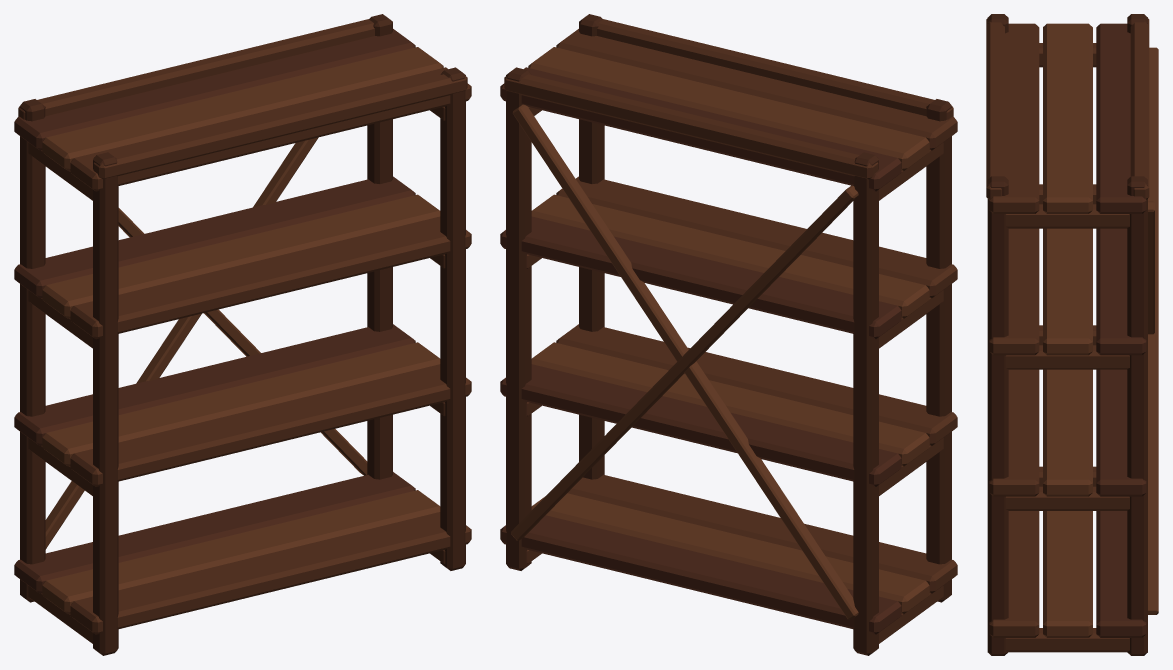
The model's file is CellarShelf.glb.
3 views of the same model, side by side, from view 1: azimuth 30°, elevation 25°; view 2: azimuth 150°, elevation 25°; view 3: azimuth 270°, elevation 25° (orthographic). The views are drawn at different scales.
Visible parts, largest first — view 1: ShelfPlank, ShelfPlank.006, ShelfPlank.003, Upright, Upright.002, ShelfPlank.010, ShelfPlank.001, ShelfPlank.004, ShelfPlank.007, ShelfPlank.002, ShelfPlank.008, ShelfPlank.005 (+12 smaller); view 2: ShelfPlank.002, ShelfPlank.008, ShelfPlank.005, Upright.001, Upright.003, ShelfPlank.010, BackBrace, Upright, ShelfPlank.004, ShelfPlank.006, ShelfPlank.001, ShelfPlank.007 (+12 smaller); view 3: ShelfPlank.010, Upright.002, Upright.003, ShelfPlank.009, ShelfPlank.011, ShelfPlank.004, ShelfPlank.007, ShelfPlank.001, BackBrace.001, ShelfPlank.005, ShelfPlank.003, ShelfPlank.006 (+10 smaller).
Boxes of the visible parts, box(x1,y1,x2,y2) form: ShelfPlank: box(70, 512, 471, 634); ShelfPlank.006: box(70, 216, 471, 339); ShelfPlank.003: box(70, 364, 471, 486); Upright: box(93, 152, 118, 655); Upright.002: box(440, 67, 465, 570); ShelfPlank.010: box(42, 47, 443, 170); ShelfPlank.001: box(42, 490, 440, 614); ShelfPlank.004: box(42, 342, 440, 466); ShelfPlank.007: box(42, 194, 440, 318); ShelfPlank.002: box(14, 472, 415, 593); ShelfPlank.008: box(14, 176, 415, 298); ShelfPlank.005: box(14, 324, 415, 445); ShelfPlank.002: box(500, 515, 901, 634); ShelfPlank.008: box(500, 216, 901, 339); ShelfPlank.005: box(500, 364, 901, 486); Upright.001: box(853, 152, 878, 655); Upright.003: box(506, 67, 531, 570); ShelfPlank.010: box(528, 47, 929, 170); BackBrace: box(512, 104, 858, 619); Upright: box(926, 99, 951, 602); ShelfPlank.004: box(531, 342, 929, 466); ShelfPlank.006: box(556, 176, 957, 298); ShelfPlank.001: box(531, 493, 929, 614); ShelfPlank.007: box(531, 194, 929, 318); ShelfPlank.010: box(1043, 23, 1092, 213); Upright.002: box(987, 176, 1008, 655); Upright.003: box(1127, 176, 1147, 655); ShelfPlank.009: box(989, 23, 1039, 213); ShelfPlank.011: box(1096, 23, 1146, 213); ShelfPlank.004: box(1043, 369, 1092, 496); ShelfPlank.007: box(1043, 228, 1092, 355); ShelfPlank.001: box(1043, 511, 1092, 637); BackBrace.001: box(1148, 47, 1158, 614); ShelfPlank.005: box(1096, 369, 1146, 496); ShelfPlank.003: box(989, 369, 1039, 496); ShelfPlank.006: box(989, 228, 1039, 355).
Size of the model in its own units: 3.6 by 4.5 by 1.48.
